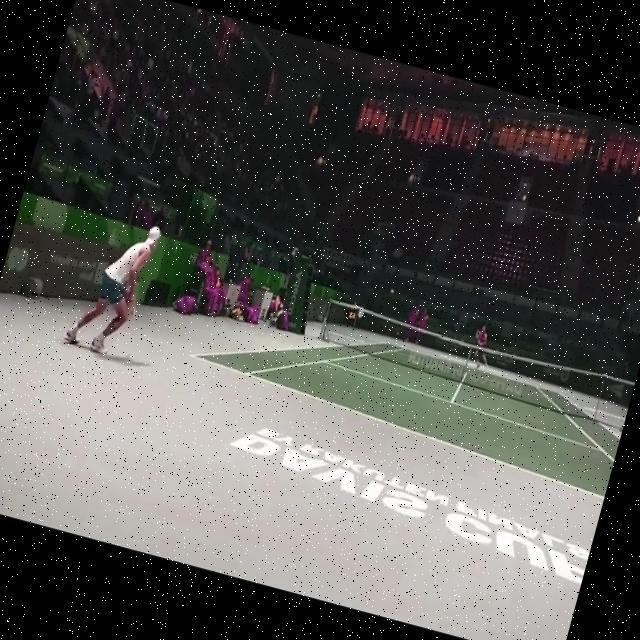court: (179, 292, 628, 500)
net: (313, 294, 636, 428)
player: (62, 210, 162, 362)
